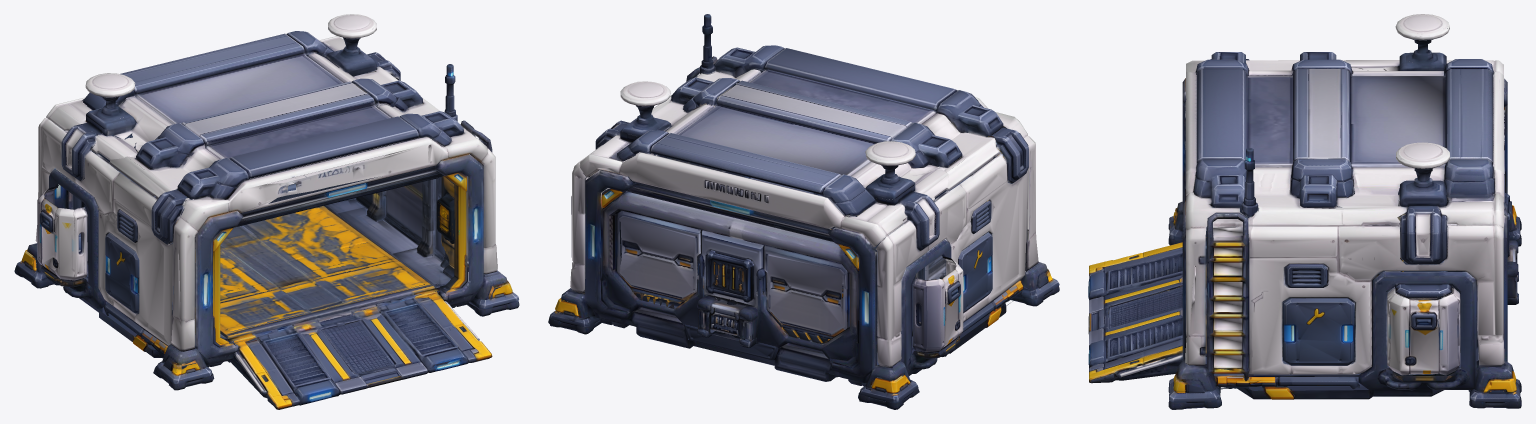
The model's file is RoverGarage.glb.
The picture shows the model from 3 angles, left to right: view 1: azimuth 30°, elevation 25°; view 2: azimuth 150°, elevation 25°; view 3: azimuth 270°, elevation 25°; orthographic projection. The views are drawn at different scales.
Visible parts, largest first — view 1: tripo_part_3, tripo_part_0, tripo_part_2, tripo_part_8, tripo_part_17, tripo_part_4, tripo_part_39, tripo_part_1, tripo_part_37, tripo_part_6, tripo_part_20, tripo_part_55 (+36 smaller); view 2: tripo_part_0, tripo_part_3, tripo_part_14, tripo_part_17, tripo_part_8, tripo_part_19, tripo_part_20, tripo_part_24, tripo_part_37, tripo_part_2, tripo_part_36, tripo_part_48 (+17 smaller); view 3: tripo_part_3, tripo_part_0, tripo_part_18, tripo_part_2, tripo_part_8, tripo_part_46, tripo_part_4, tripo_part_21, tripo_part_25, tripo_part_19, tripo_part_30, tripo_part_6 (+21 smaller).
Boxes of the visible parts, x1,y1,x2,y2 form: tripo_part_3: (120,31,390,159); tripo_part_0: (14,52,519,409); tripo_part_2: (171,53,497,351); tripo_part_8: (135,111,463,199); tripo_part_17: (35,117,181,345); tripo_part_4: (259,299,466,405); tripo_part_39: (243,207,424,293); tripo_part_1: (84,165,445,341); tripo_part_37: (91,96,187,198); tripo_part_6: (319,318,410,374); tripo_part_20: (61,90,136,181); tripo_part_55: (326,199,450,285); tripo_part_0: (548,56,1059,409); tripo_part_3: (609,69,937,195); tripo_part_14: (615,210,849,338); tripo_part_17: (876,151,1028,367); tripo_part_8: (713,45,1003,175); tripo_part_19: (580,135,907,247); tripo_part_20: (822,165,939,250); tripo_part_24: (912,269,960,356); tripo_part_37: (851,132,1000,201); tripo_part_2: (651,69,1038,270); tripo_part_36: (705,250,753,302); tripo_part_48: (958,232,992,312); tripo_part_3: (1246,69,1494,200); tripo_part_0: (1091,78,1521,409); tripo_part_18: (1248,224,1504,374); tripo_part_2: (1185,60,1444,365); tripo_part_8: (1193,52,1367,207); tripo_part_46: (1283,297,1354,365); tripo_part_4: (1088,253,1182,364); tripo_part_21: (1398,167,1464,264); tripo_part_25: (1387,288,1439,375); tripo_part_19: (1439,60,1504,230); tripo_part_30: (1289,159,1353,207); tripo_part_6: (1104,286,1182,335).
Bounding box in the file's own units: 0.982 × 0.5874 × 0.9119.
113 materials, 113 textured.
